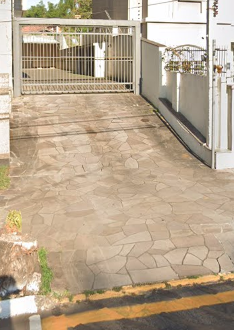vag23: (50, 233, 234, 313)
